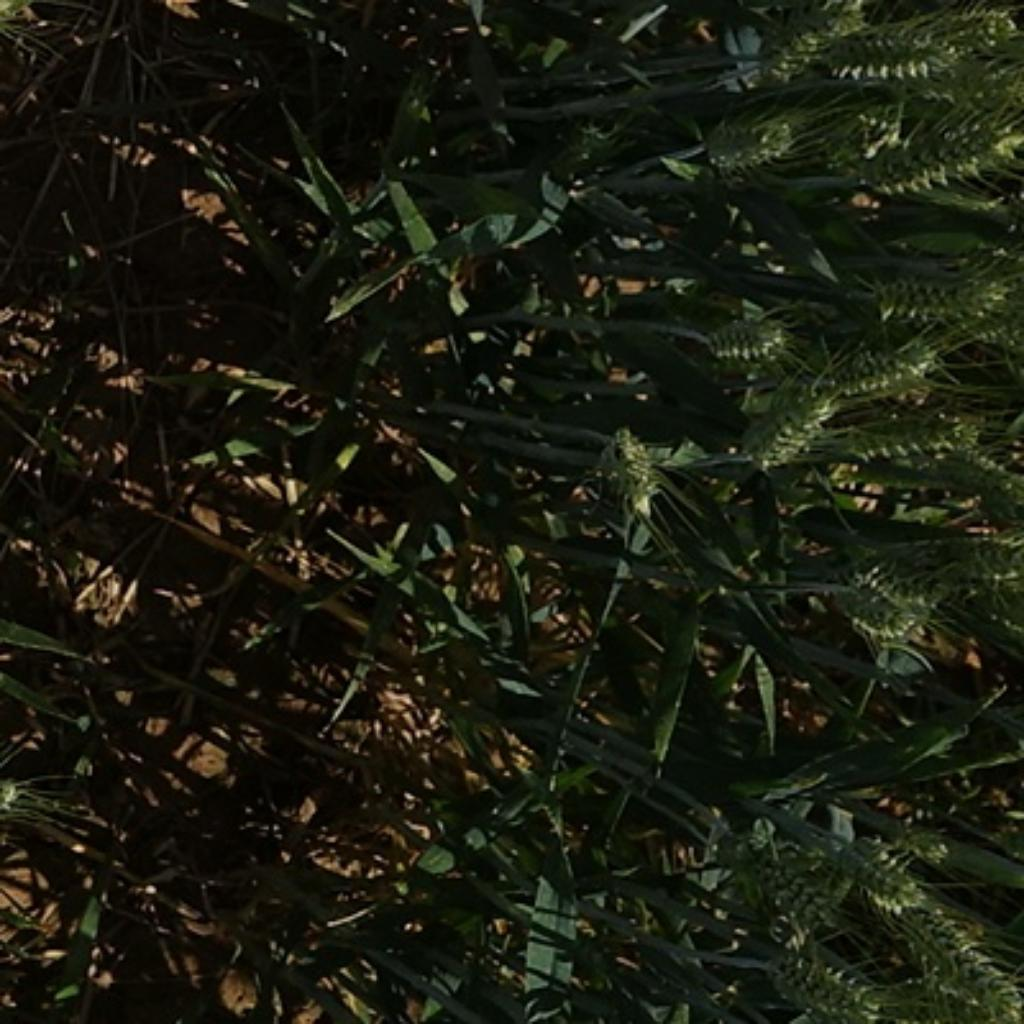0-0: (849, 127, 1024, 199), (835, 408, 979, 482), (744, 834, 855, 929), (739, 366, 844, 463), (872, 532, 1024, 599), (885, 10, 1021, 84), (864, 270, 1020, 334), (762, 942, 883, 1018), (834, 568, 939, 655), (801, 337, 942, 401), (696, 97, 803, 179), (839, 814, 924, 916), (752, 0, 857, 79), (582, 426, 669, 519), (696, 302, 793, 373), (807, 101, 910, 167), (837, 33, 957, 87), (939, 444, 1024, 499), (0, 769, 67, 829)
